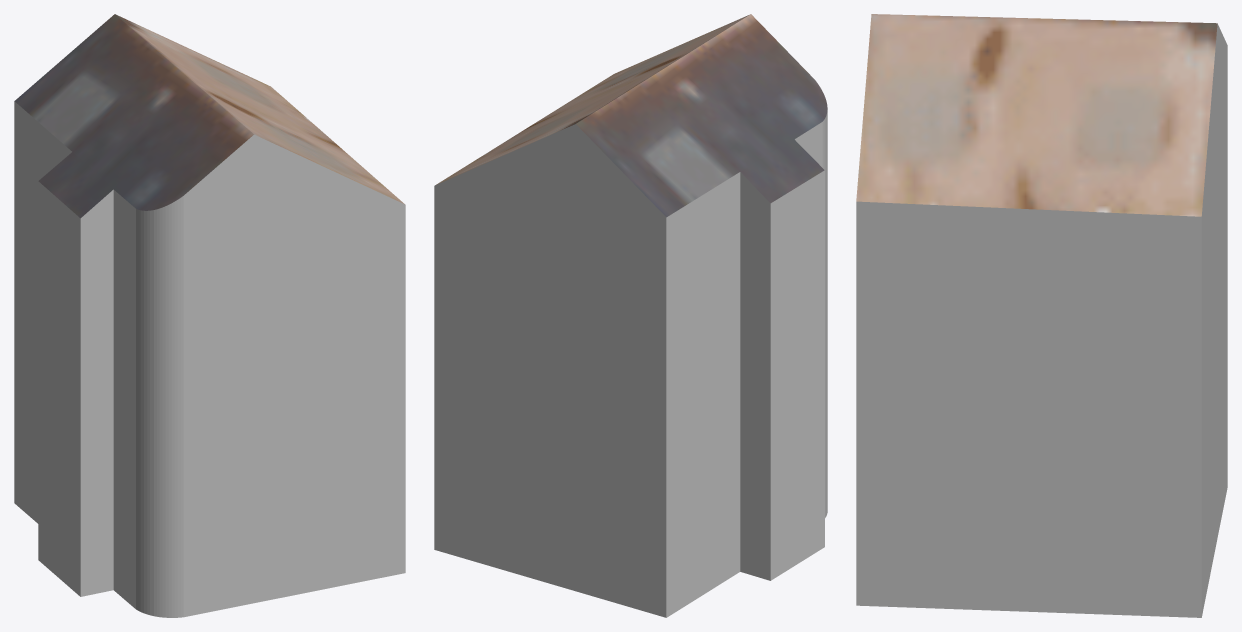
The model's file is DEBW_0010007Tx7v.gltf.
3 views of the same model, side by side, from view 1: azimuth 30°, elevation 25°; view 2: azimuth 150°, elevation 25°; view 3: azimuth 270°, elevation 25° (orthographic). The views are drawn at different scales.
Visible parts, largest first — view 1: Z_UP; view 2: Z_UP; view 3: Z_UP.
Part boxes in pixels (left/top/right/bottom): Z_UP: left=14, top=14, right=405, bottom=617; Z_UP: left=434, top=14, right=827, bottom=617; Z_UP: left=856, top=14, right=1227, bottom=617.
Bounding box in the file's own units: 11.92 × 18.35 × 12.
2 materials, 1 textured.
